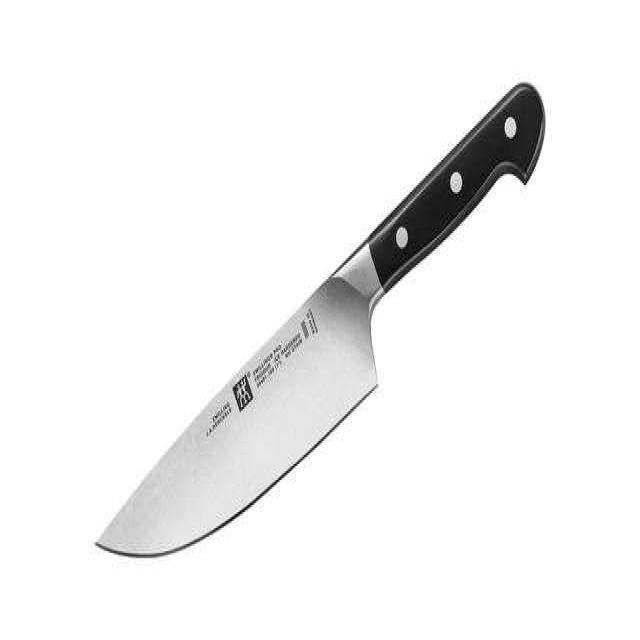knife: (84, 77, 558, 583)
